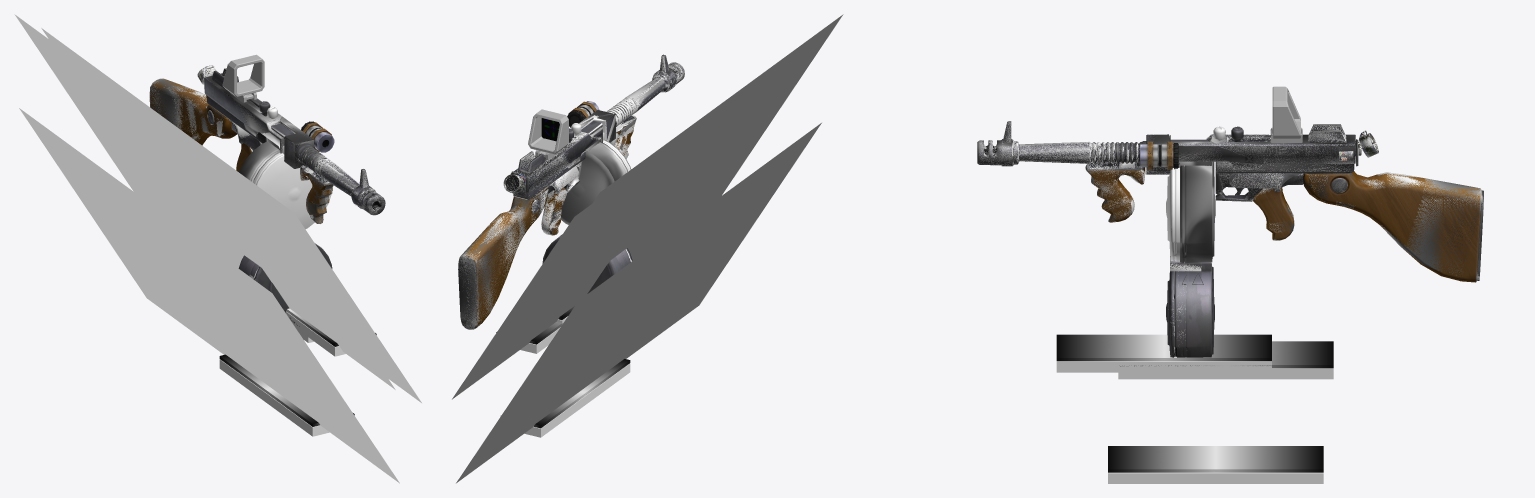
Rendered from SMG.glb.
3 renders of one model, left to right at view 1: azimuth 30°, elevation 25°; view 2: azimuth 150°, elevation 25°; view 3: azimuth 270°, elevation 25°, orthographic. The views are drawn at different scales.
Visible parts, largest first — view 1: LightQuad (×3), TommyBody (×2), DoubleDamageBody, TommyMagazine, Cube (1) (×2), HoloSight, Cube, InfiniteAmmoMagazine, LaserAimModuleLOD0, Magazine; view 2: LightQuad (×3), TommyBody (×2), DoubleDamageBody, InfiniteAmmoMagazine, HoloSight, Cube (1), Cube, TommyMagazineReload, LaserAimModuleLOD0; view 3: TommyBody (×2), DoubleDamageBody, Cube (×3), Cube (1) (×3), InfiniteAmmoMagazine, TommyMagazineReload, Magazine, HoloSight, TommyMagazine, LaserAimModuleLOD0.
Boxes of the visible parts, left/top/right/bottom form: LightQuad (×3): left=14, top=14, right=421, bottom=483; TommyBody (×2): left=149, top=69, right=385, bottom=223; DoubleDamageBody: left=149, top=68, right=385, bottom=223; TommyMagazine: left=253, top=146, right=331, bottom=229; Cube (1) (×2): left=219, top=311, right=345, bottom=436; HoloSight: left=222, top=54, right=264, bottom=103; Cube: left=219, top=354, right=354, bottom=426; InfiniteAmmoMagazine: left=239, top=138, right=280, bottom=182; LaserAimModuleLOD0: left=301, top=121, right=334, bottom=152; Magazine: left=250, top=243, right=332, bottom=312; LightQuad (×3): left=452, top=14, right=843, bottom=483; TommyBody (×2): left=458, top=55, right=684, bottom=328; DoubleDamageBody: left=458, top=54, right=684, bottom=329; InfiniteAmmoMagazine: left=561, top=139, right=627, bottom=224; HoloSight: left=528, top=109, right=568, bottom=160; Cube (1): left=524, top=363, right=630, bottom=437; Cube: left=533, top=359, right=630, bottom=428; TommyMagazineReload: left=542, top=234, right=626, bottom=293; LaserAimModuleLOD0: left=567, top=101, right=599, bottom=127; TommyBody (×2): left=977, top=121, right=1483, bottom=282; DoubleDamageBody: left=977, top=121, right=1483, bottom=281; Cube (×3): left=1056, top=334, right=1333, bottom=472; Cube (1) (×3): left=1056, top=361, right=1333, bottom=483; InfiniteAmmoMagazine: left=1179, top=161, right=1215, bottom=263; TommyMagazineReload: left=1181, top=262, right=1214, bottom=357; Magazine: left=1166, top=256, right=1201, bottom=357; HoloSight: left=1270, top=86, right=1302, bottom=142; TommyMagazine: left=1166, top=165, right=1185, bottom=261; LaserAimModuleLOD0: left=1140, top=141, right=1178, bottom=169.
Size of what is drawn, in the model's own units: 0.3545 by 0.6564 by 1.02.
15 materials, 10 textured.
